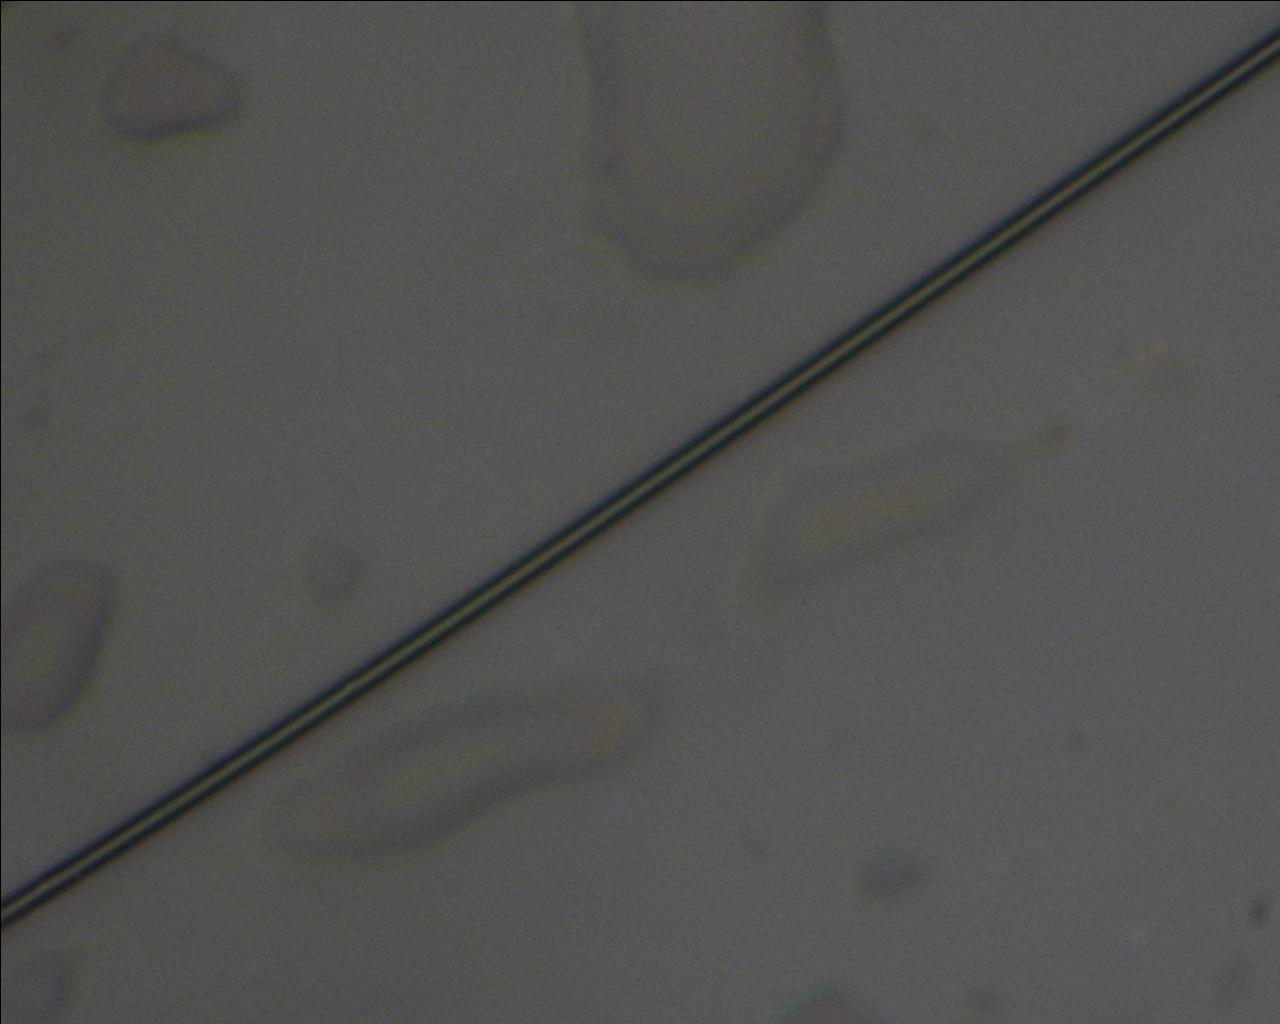fiber: (114, 645, 691, 1024), (1116, 94, 1280, 645), (475, 0, 547, 645), (884, 645, 1006, 1024)
